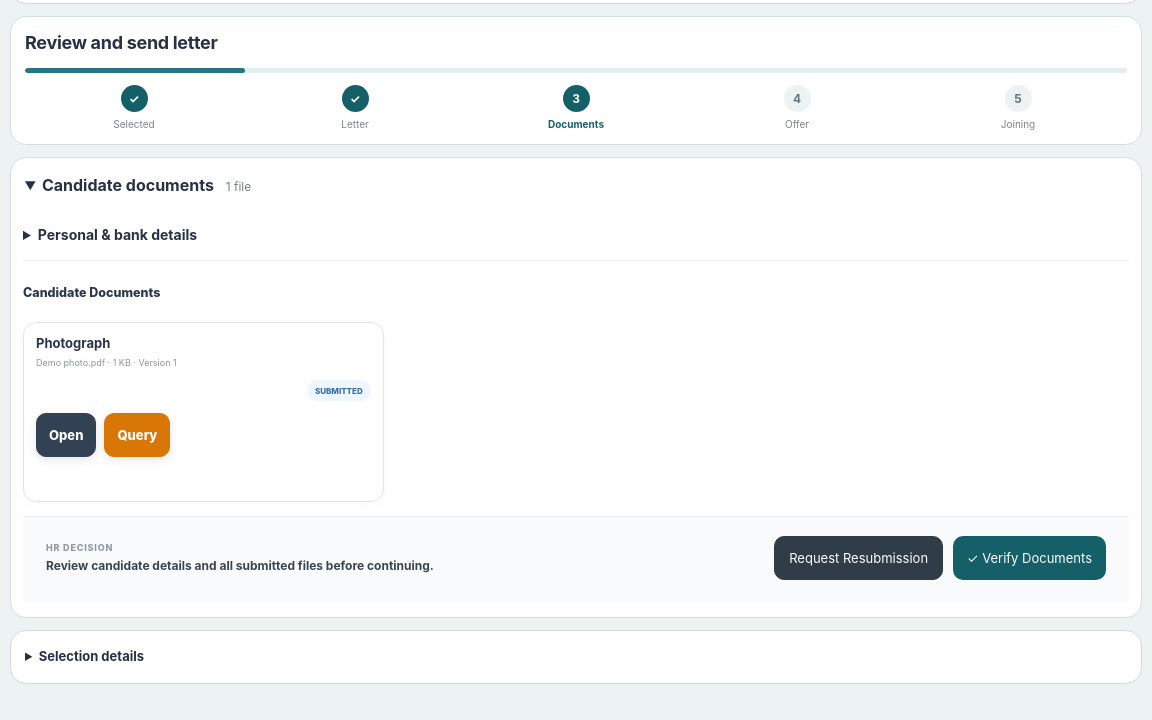
Test: document verification still requires confirmation
The width and height of the screenshot is (1152, 720).
(page scrolled)
Click the button "✓ Verify Documents" at coordinates (1030, 558), box [953,536,1106,580]
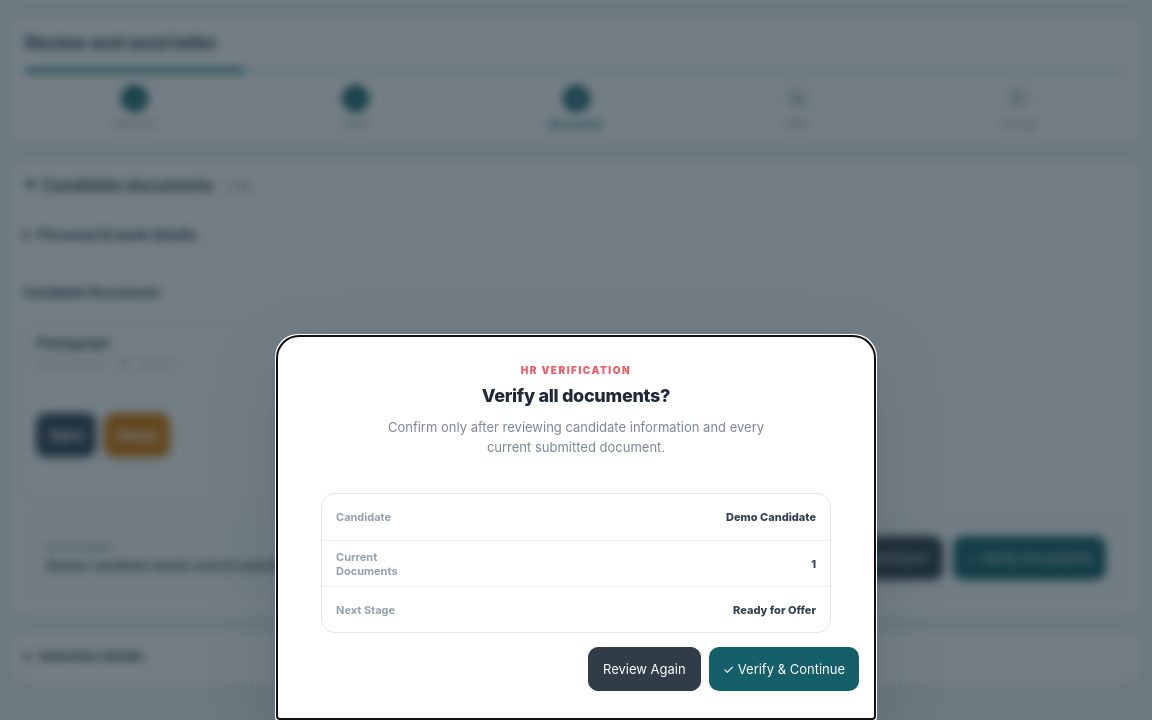
Click the button "✓ Verify & Continue" at coordinates (784, 669), box [709,647,859,691]
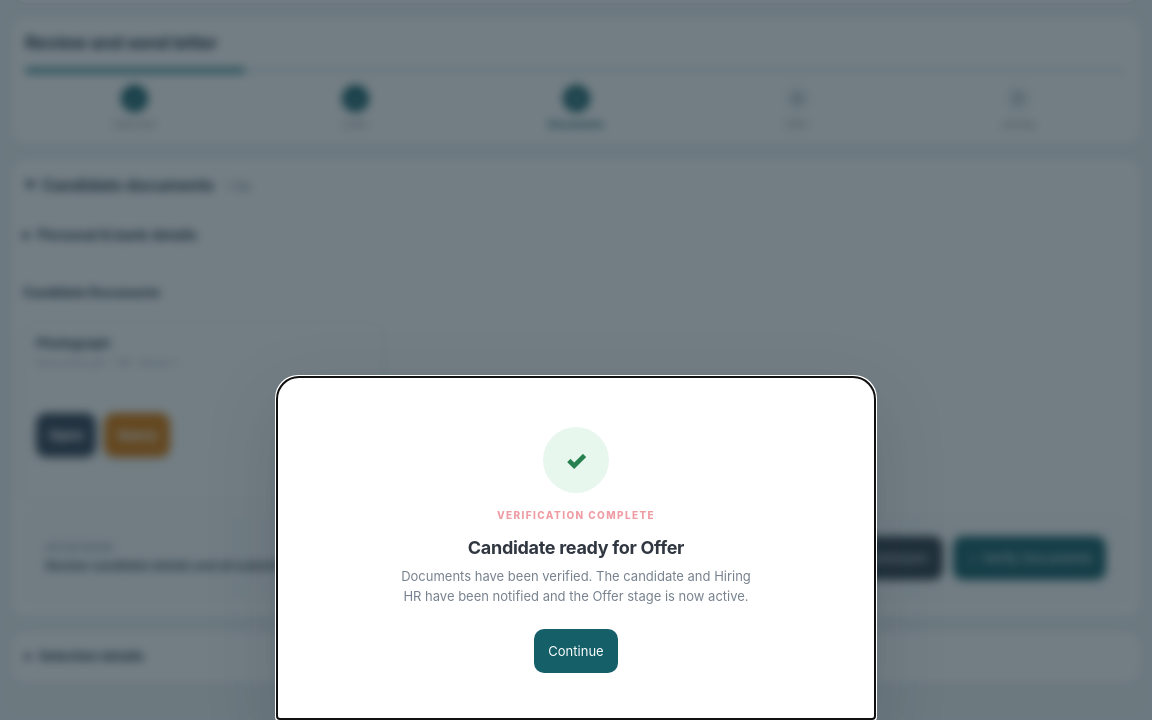
Expected: the heading "Candidate ready for Offer" is shown, [468,537,684,558]
